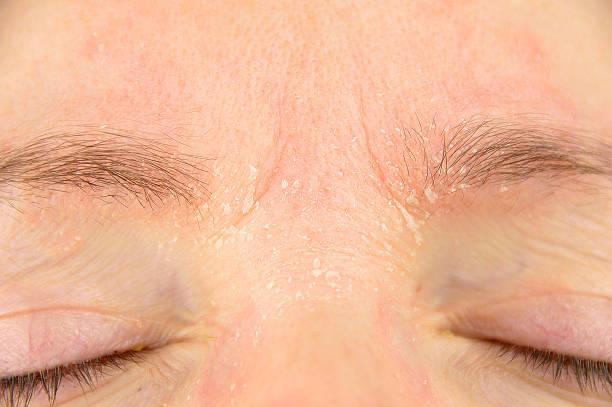Dry-Skin: (197, 109, 460, 365)
